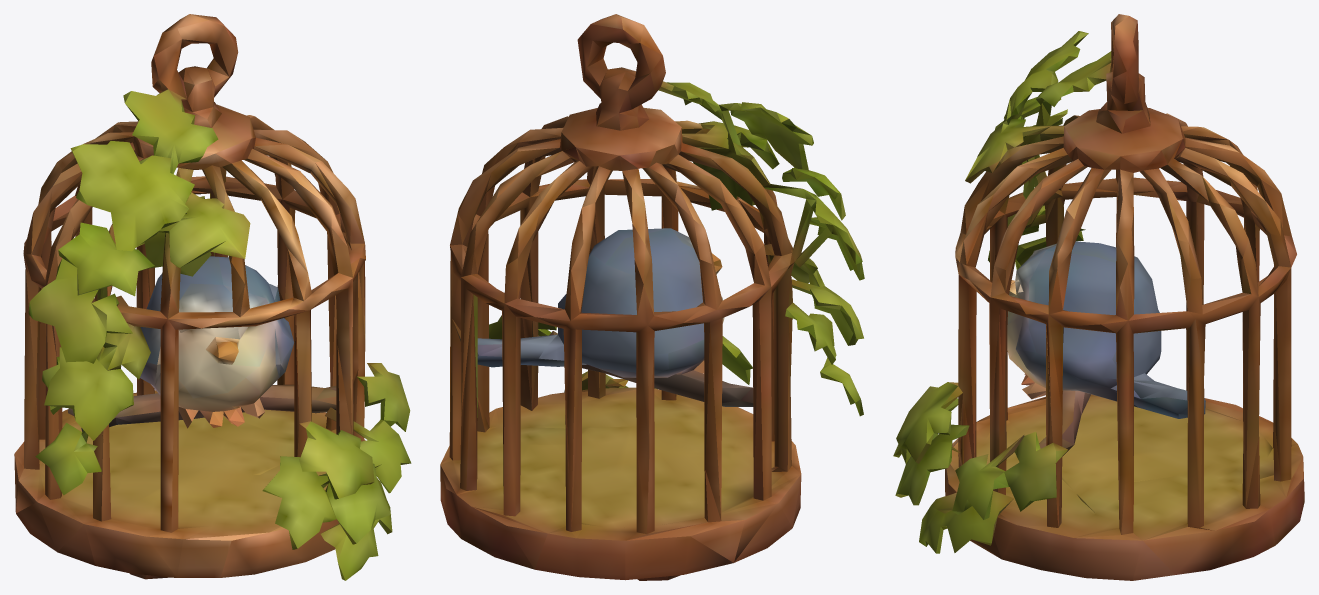
Rendered from deco36.glb.
The picture shows the model from 3 angles, left to right: view 1: azimuth 30°, elevation 25°; view 2: azimuth 150°, elevation 25°; view 3: azimuth 270°, elevation 25°; orthographic projection.
Bounding box in the file's own units: 0.225 × 0.2921 × 0.2145.
Materials: 1 (1 with a texture image).
